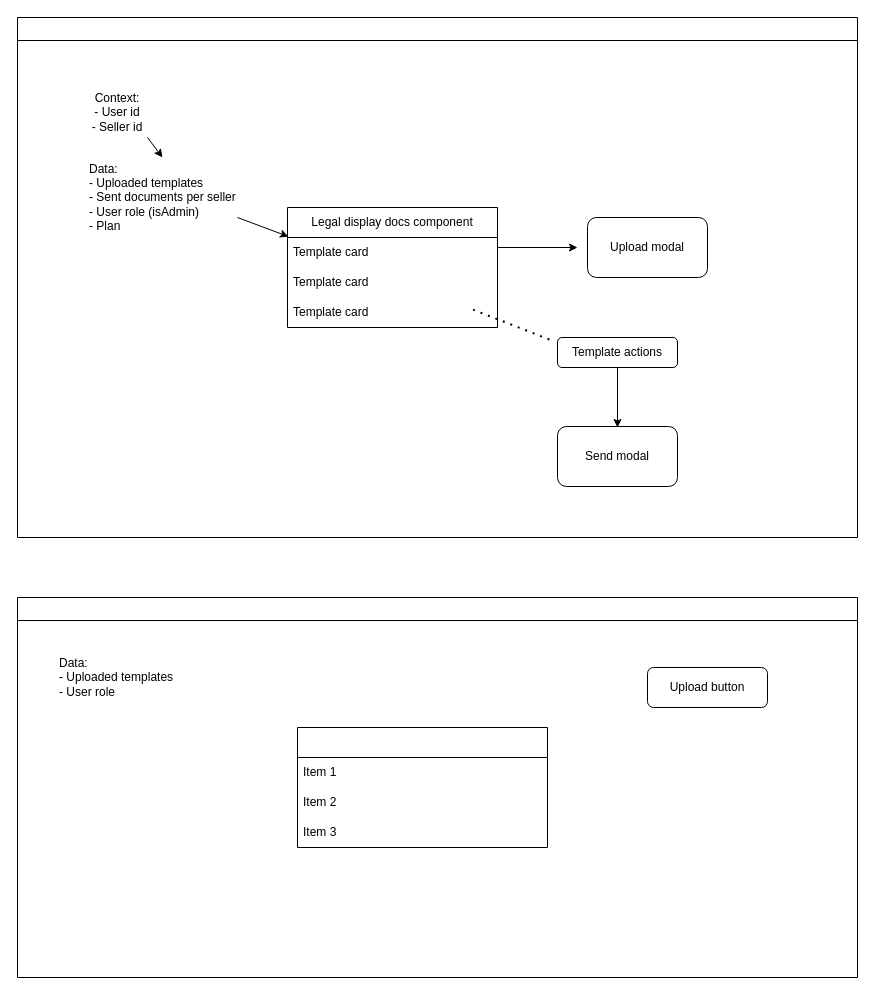
This 875x995 diagram has some shape labels left out. Here are the shapes that lost their labels. From the top down, the box of each, then its label:
(16, 16, 858, 538): Legal docs package
(296, 726, 548, 848): Templates table
(16, 596, 858, 978): Admin page
